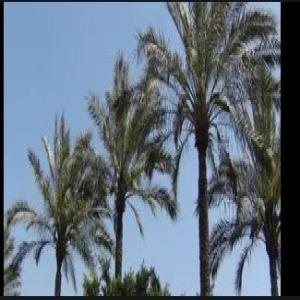palm tree: (134, 0, 279, 294)
